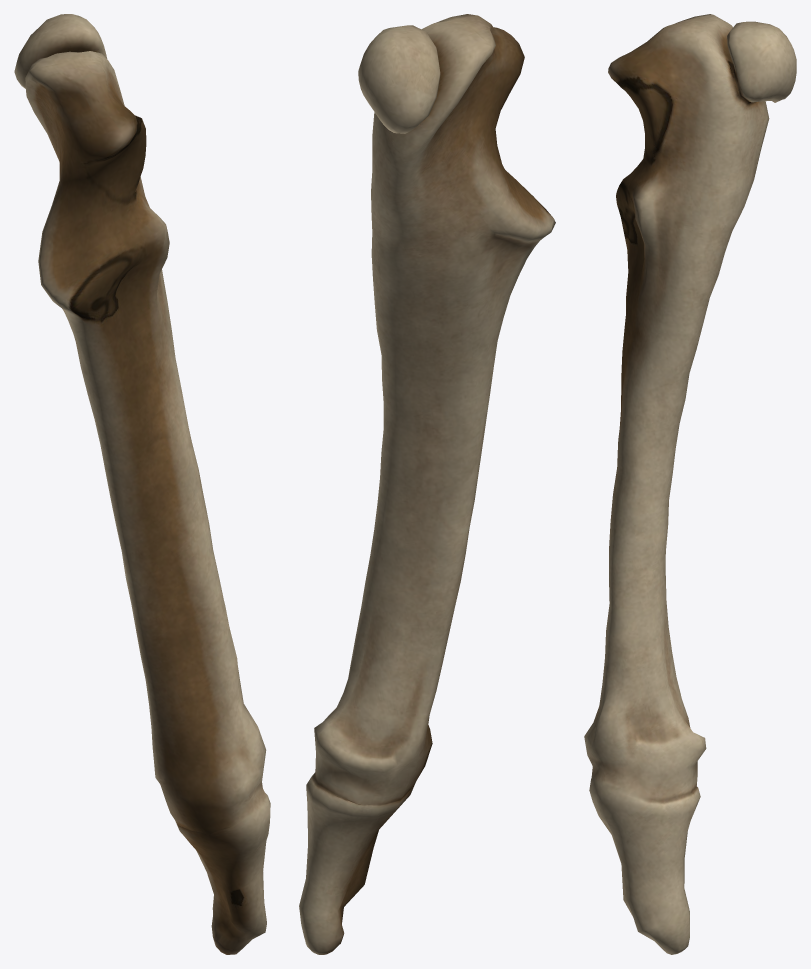
The model's file is Ulna.glb.
3 views of the same model, side by side, from view 1: azimuth 30°, elevation 25°; view 2: azimuth 150°, elevation 25°; view 3: azimuth 270°, elevation 25° (orthographic). The views are drawn at different scales.
Parts seen in each view (by area): view 1: Ulna_Left1:Group24653; view 2: Ulna_Left1:Group24653; view 3: Ulna_Left1:Group24653.
Boxes of the visible parts, x1,y1,x2,y2 form: Ulna_Left1:Group24653: [14, 14, 270, 954]; Ulna_Left1:Group24653: [299, 14, 555, 954]; Ulna_Left1:Group24653: [584, 14, 796, 954].
Size of the model in its own units: 33.49 by 135 by 29.82.
Materials: 1 (1 with a texture image).
